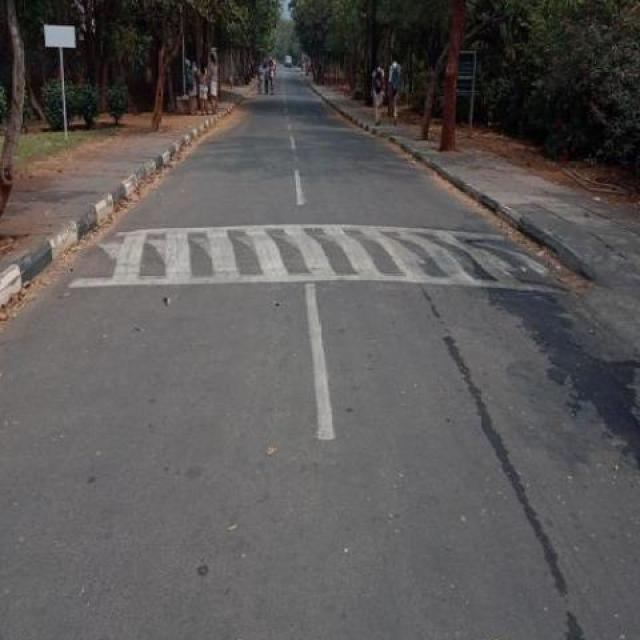Speed Bump: (61, 228, 575, 295)
